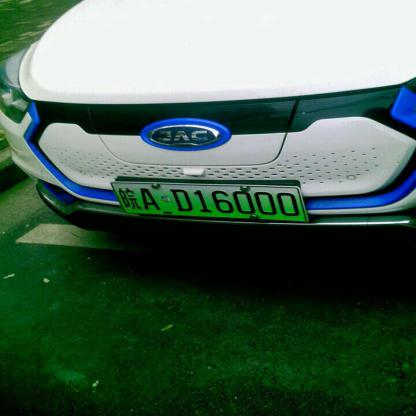lp: (111, 183, 306, 219)
